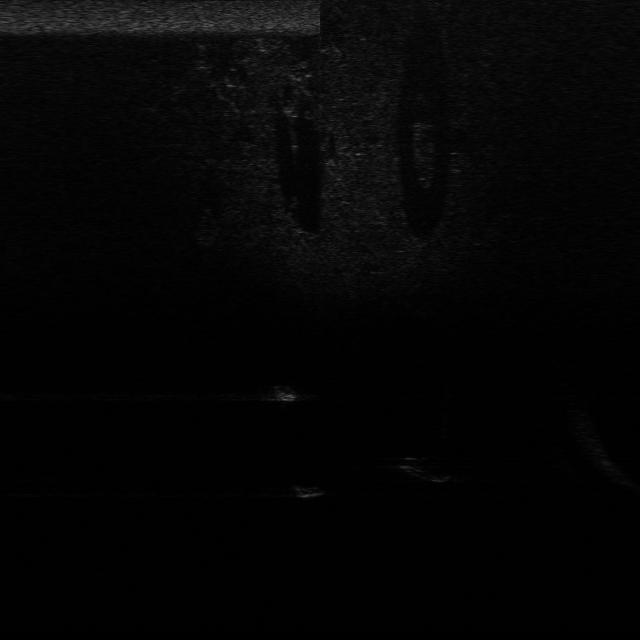cube: (290, 478, 330, 504)
square cage: (260, 380, 310, 406)
tyre: (400, 450, 456, 490)
